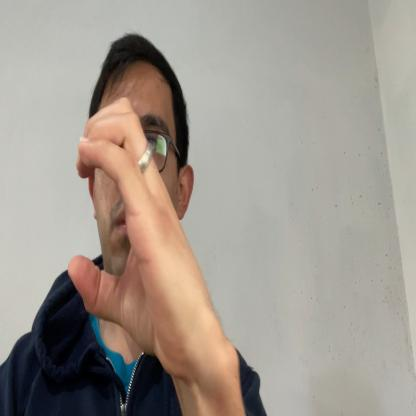C: (68, 96, 203, 374)
